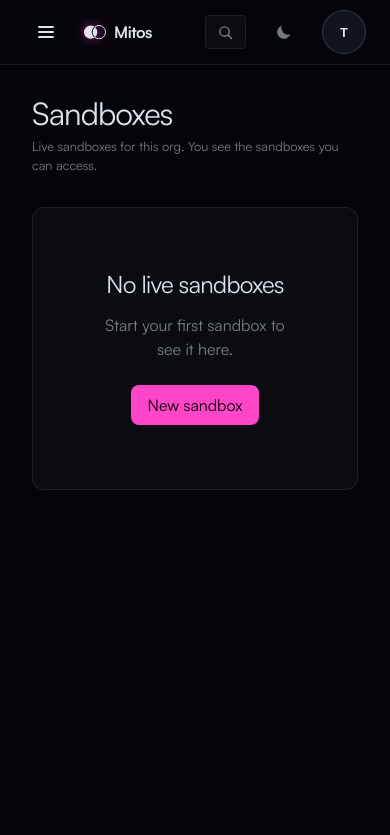
Test: AppShell responsive drawer › exposes a menu button that toggles the nav drawer and reports aria-expanded
Click the button named "open navigation menu".
click(46, 32)  # box [24,10,68,54]
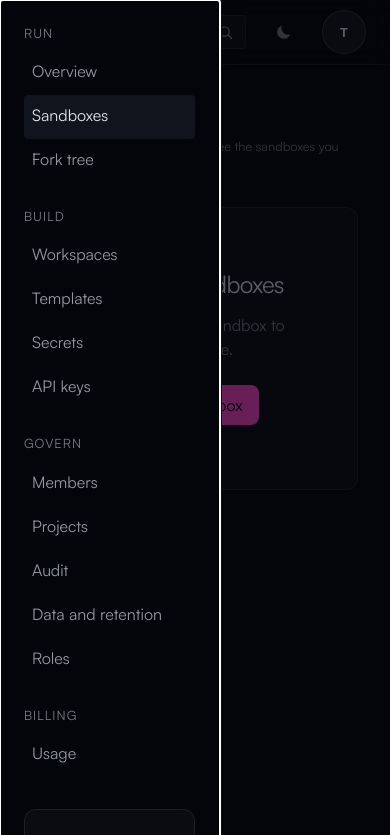
Expected: the button named "open navigation menu" is expanded, [24,10,68,54]
